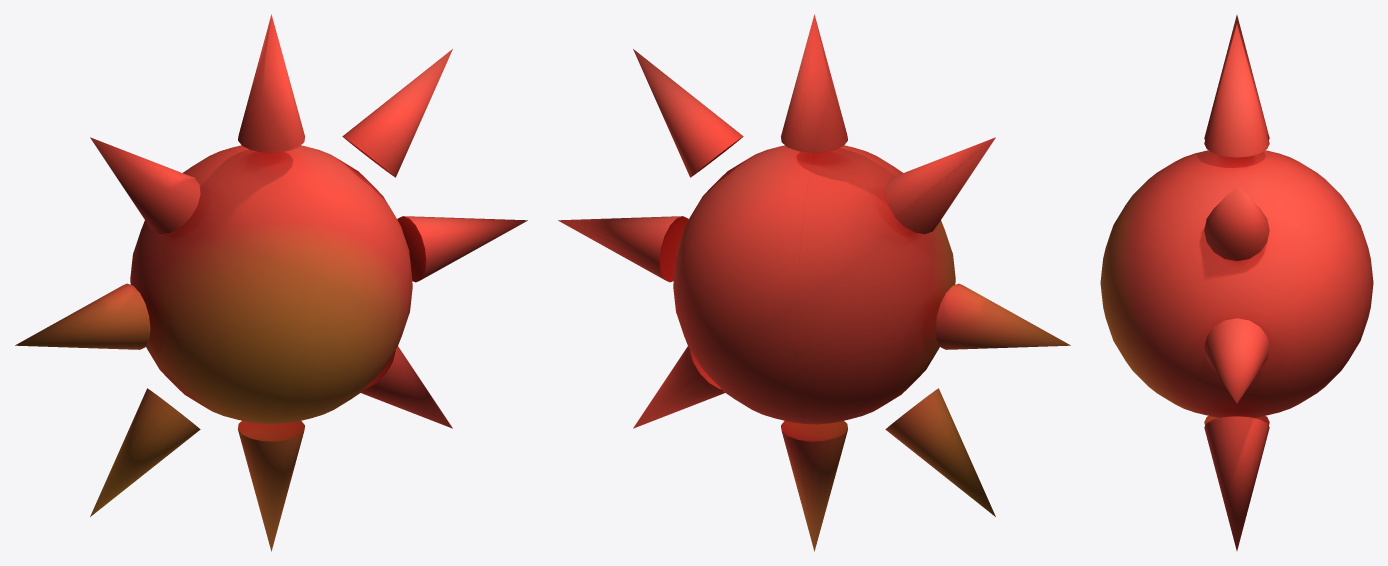
File: Sun.fbx
3 renders of one model, left to right at view 1: azimuth 30°, elevation 25°; view 2: azimuth 150°, elevation 25°; view 3: azimuth 270°, elevation 25°, orthographic. The views are drawn at different scales.
Parts seen in each view (by area): view 1: Sun; view 2: Sun; view 3: Sun.
Boxes of the visible parts, box(x1,y1,x2,y2) form: Sun: box(15, 14, 527, 551); Sun: box(558, 14, 1070, 551); Sun: box(1100, 15, 1373, 550).
Size of the model in its own units: 419 by 419 by 200.
1 material, 1 textured.
